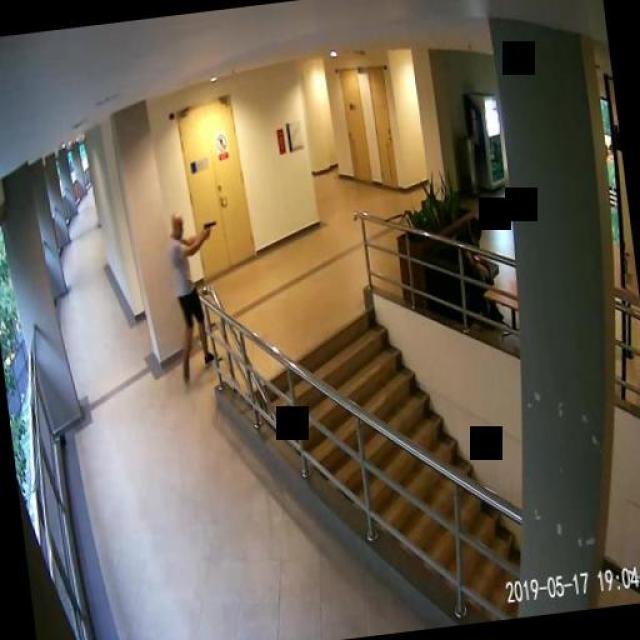gun: (202, 218, 218, 238)
